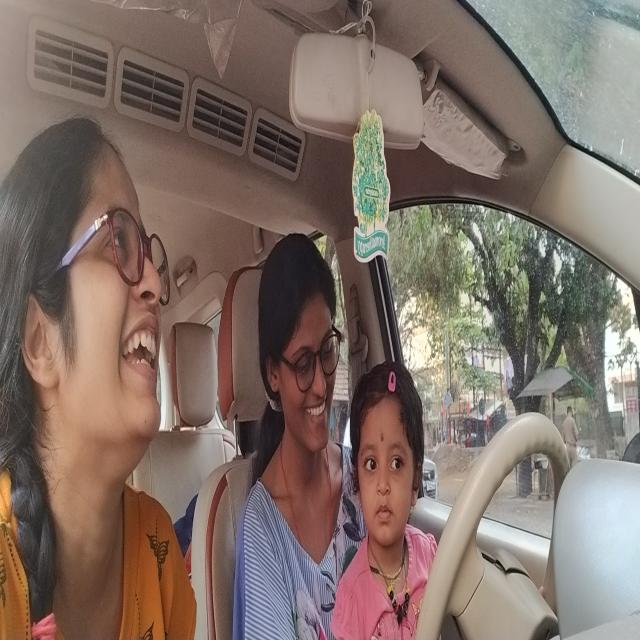person: (0, 107, 179, 516), (256, 223, 347, 458)
talking: (347, 369, 427, 536)
